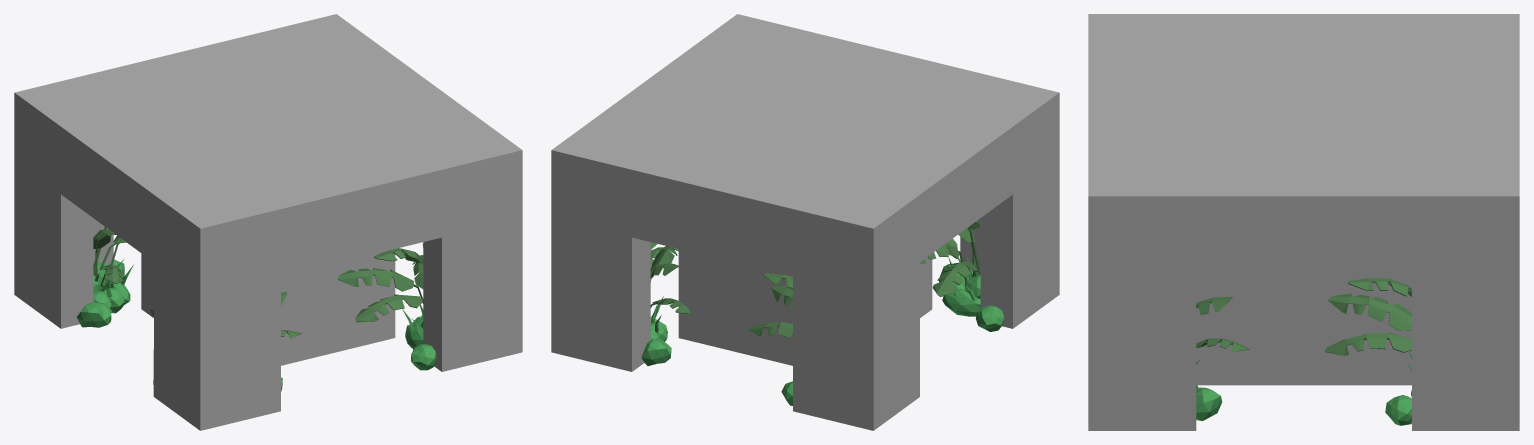
Rendered from BottomElement0.fbx.
The picture shows the model from 3 angles, left to right: view 1: azimuth 30°, elevation 25°; view 2: azimuth 150°, elevation 25°; view 3: azimuth 270°, elevation 25°; orthographic projection. The views are drawn at different scales.
Parts seen in each view (by area): view 1: Grass_005.019; view 2: Grass_005.019; view 3: Grass_005.019.
Boxes of the visible parts, x1,y1,x2,y2 form: Grass_005.019: (14,14,522,430); Grass_005.019: (551,14,1059,430); Grass_005.019: (1088,14,1519,430).
Bounding box in the file's own units: 100 × 61.22 × 100.
